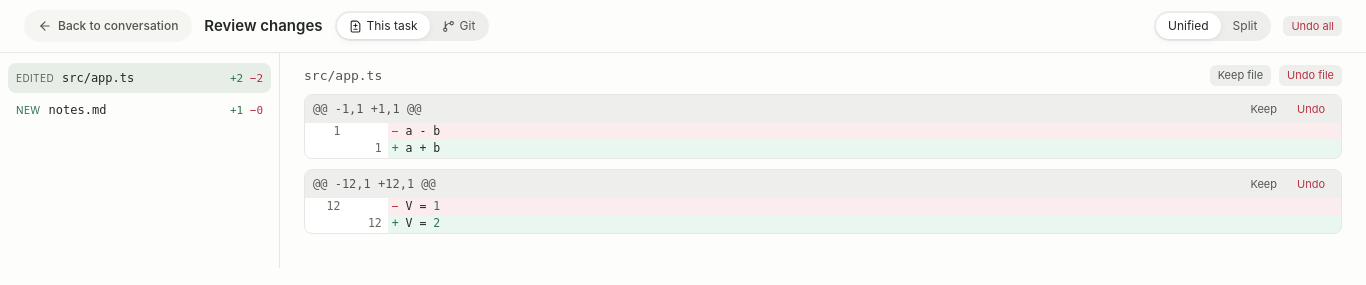
Test: ReviewView › lists only the task's files and undoes one hunk
The image size is (1366, 285).
Expected: the text "a + b" is shown, 406,141 -> 440,155
Click the button with aria-label "Undo change @@ -1,1 +1,1 @@". click: (1311, 109)
box: 1289,98 -> 1333,119
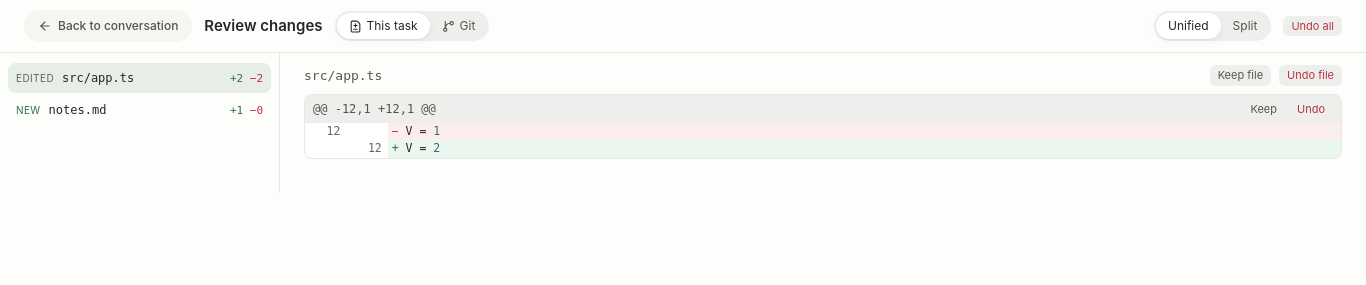
Expected: the element with class "review-diff" shows "V = 2", 280,53 -> 1365,192
Expected: the text "a + b" is gone
